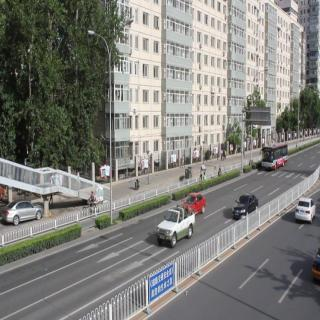BigCar: (260, 140, 290, 173)
Car: (160, 207, 193, 245), (3, 196, 42, 224), (233, 194, 259, 220), (181, 190, 206, 214), (297, 196, 315, 223)
